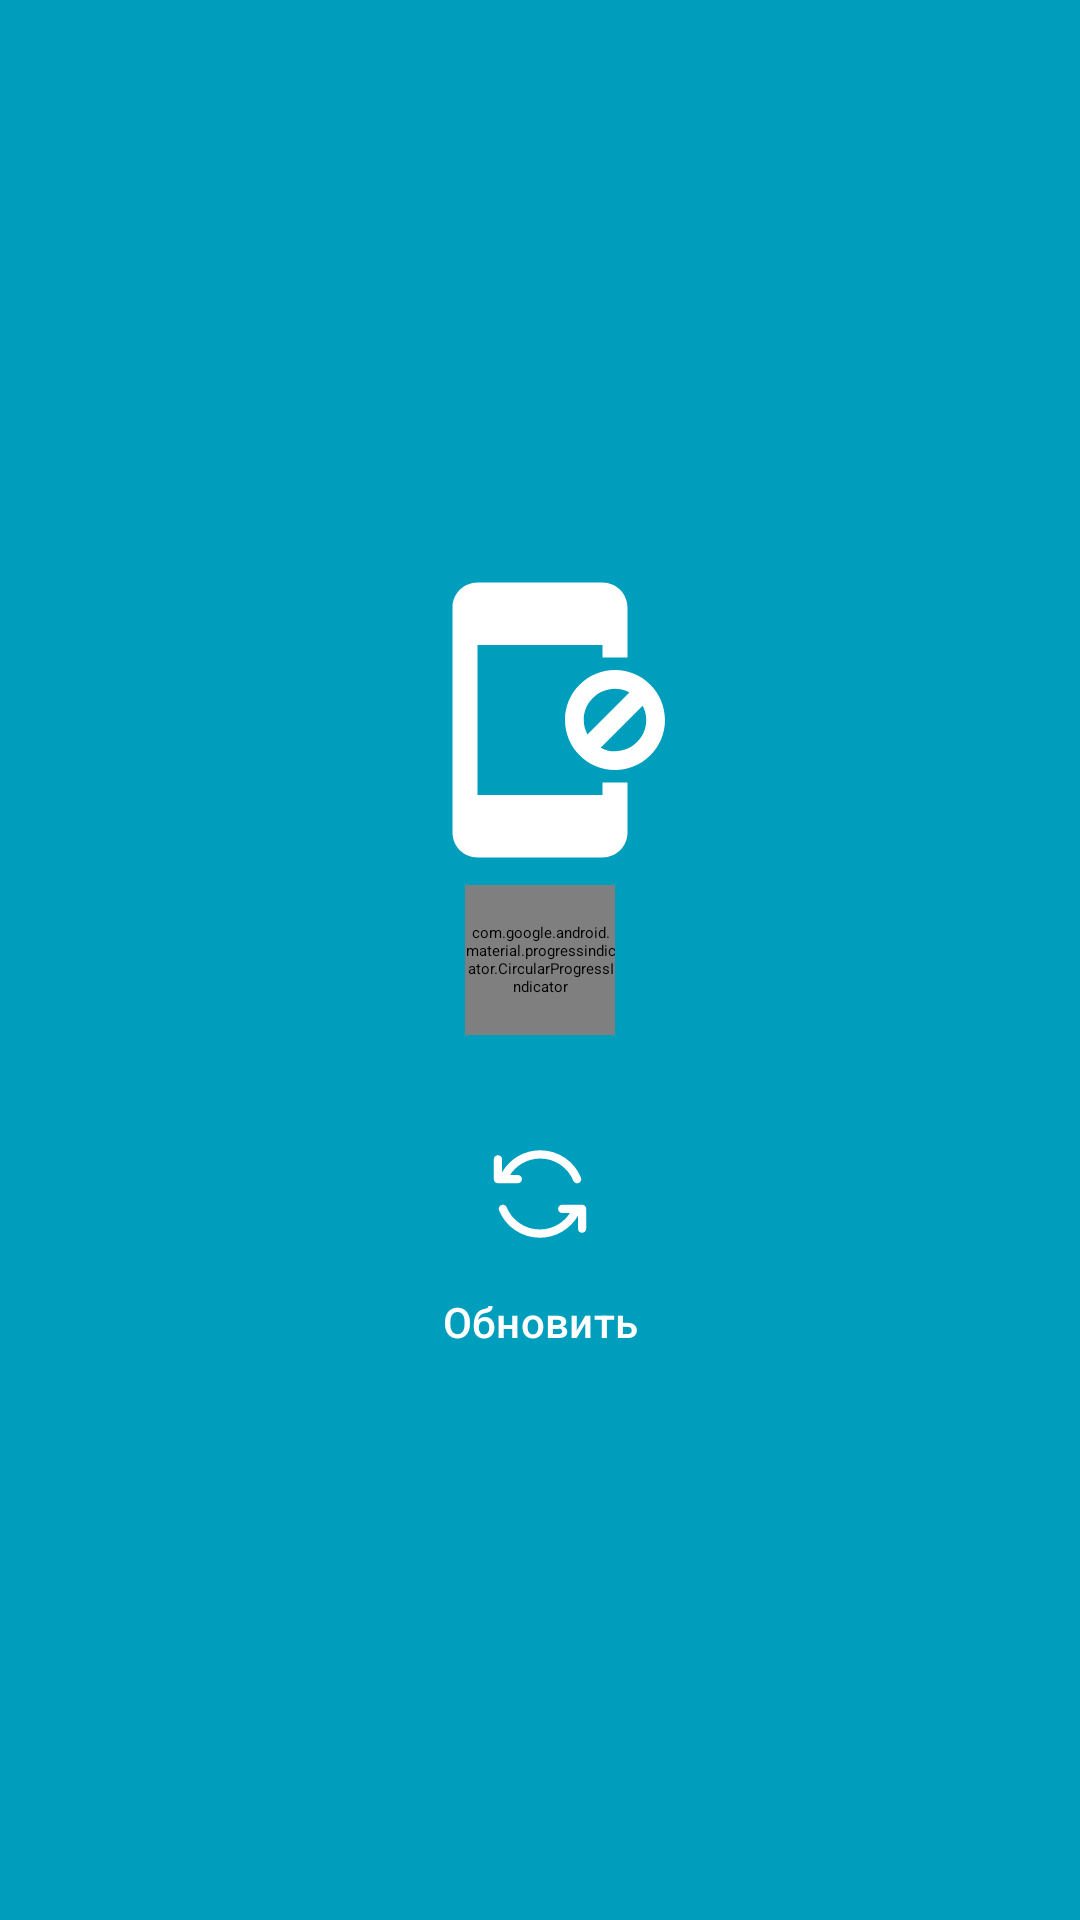

Icons on this 1080w x 1920h Android screen, each with its box as (x1, y1, x2, y2):
Нет подключения к итернету: (452, 582, 665, 858)
